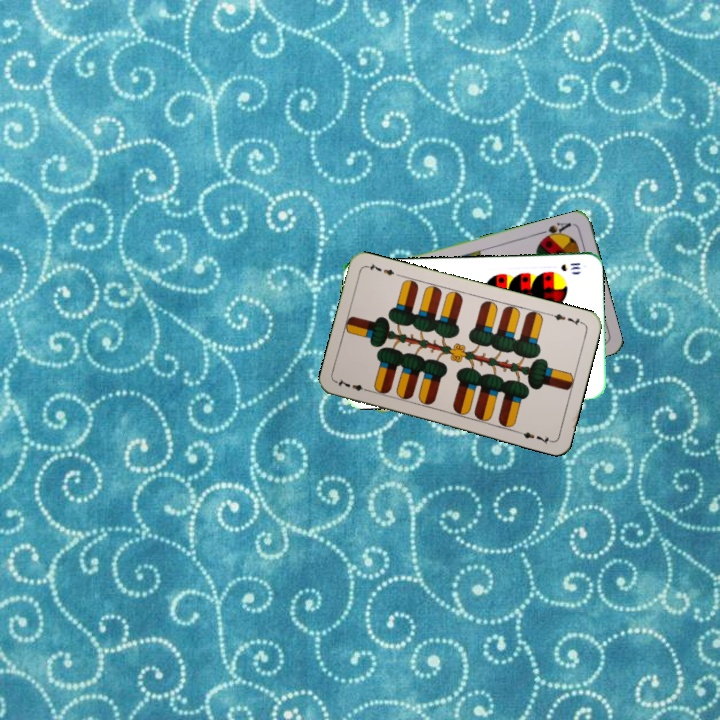E7: (546, 309, 586, 328), (333, 375, 373, 394)
S10: (557, 259, 583, 273)
SA: (535, 218, 574, 243)
